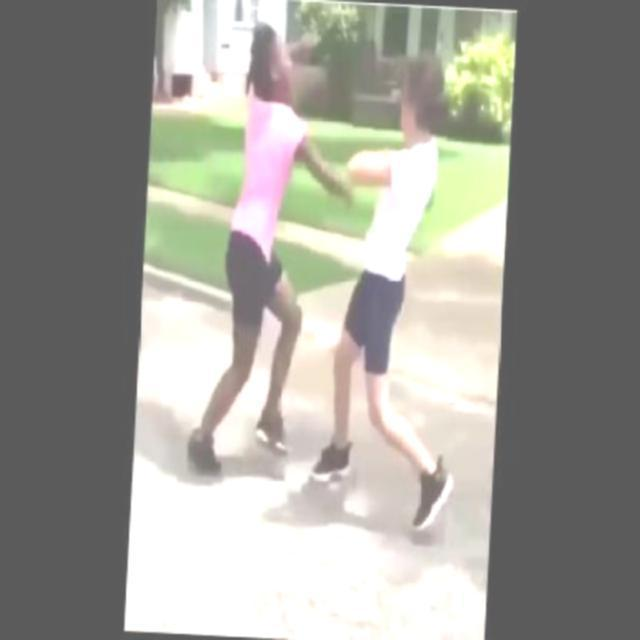fight: (184, 14, 478, 540)
